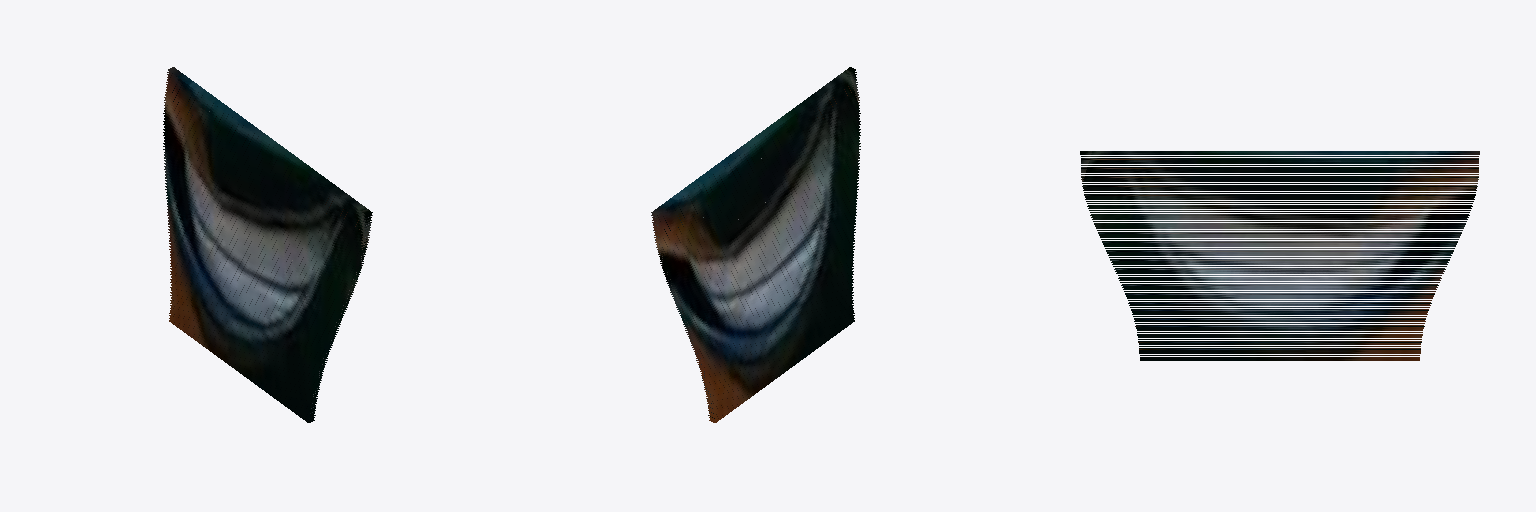
The picture shows the model from 3 angles: view 1: azimuth 30°, elevation 25°; view 2: azimuth 150°, elevation 25°; view 3: azimuth 270°, elevation 25°; orthographic projection.
Parts seen in each view (by area): view 1: Cube.001; view 2: Cube.001; view 3: Cube.001.
Part boxes in pixels (x1,y1,x2,y2): Cube.001: (163,67,372,422); Cube.001: (651,67,860,422); Cube.001: (1080,151,1479,360).
Bounding box in the file's own units: 0.1783 × 1.09 × 1.76.
Materials: 1 (1 with a texture image).